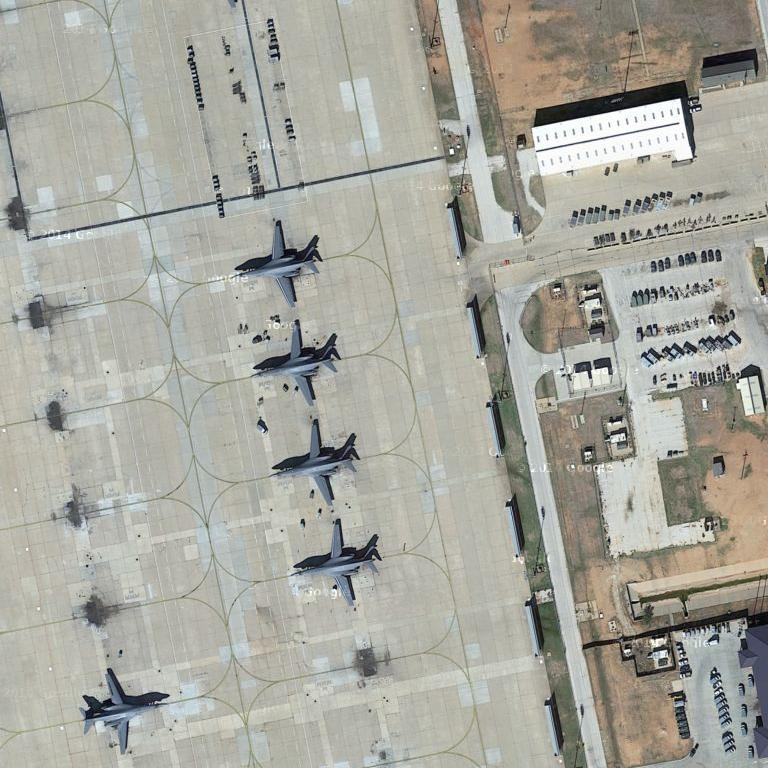B-1B: (231, 219, 324, 308), (268, 419, 362, 506), (290, 520, 384, 607), (74, 669, 169, 754), (251, 323, 345, 403)
